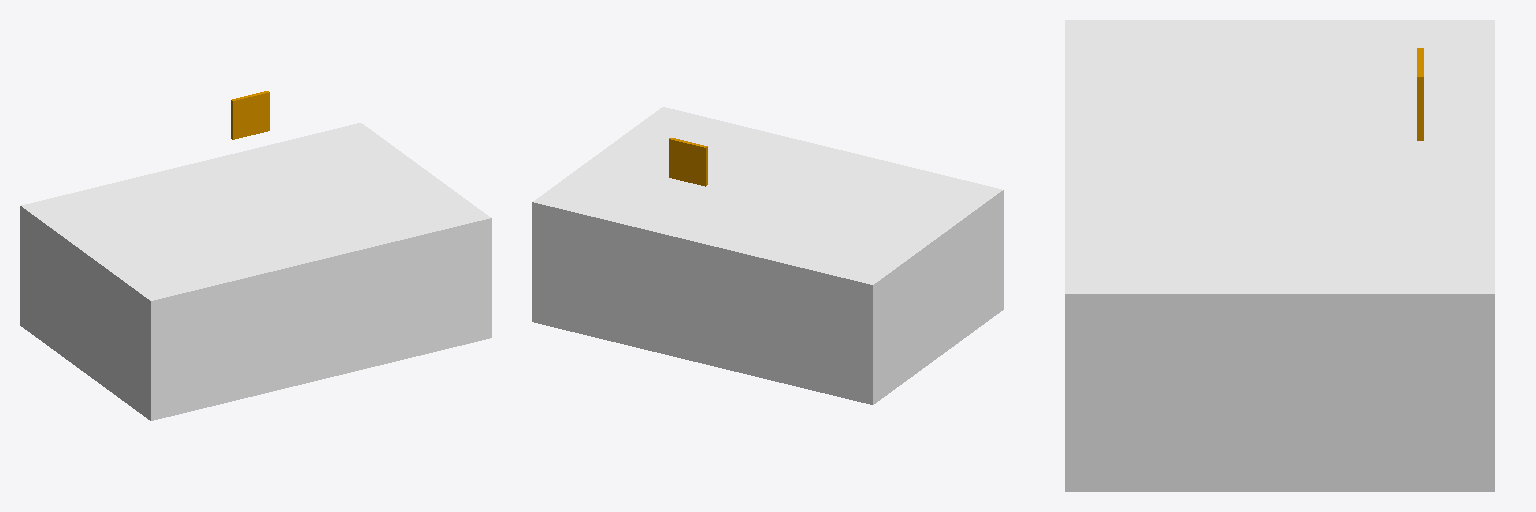
robot.urdf — differential_wheeled_robot:
<?xml version="1.0" ?>
<!-- =================================================================================== -->
<!-- |    This document was autogenerated by xacro from diff_wheeled_robot.xacro       | -->
<!-- |    EDITING THIS FILE BY HAND IS NOT RECOMMENDED                                 | -->
<!-- =================================================================================== -->
<robot name="differential_wheeled_robot" xmlns:xacro="http://www.ros.org/wiki/xacro">
  <!-- Wheels -->
  <!-- in kg-->
  <!-- Defining the colors used in this robot -->
  <material name="Black">
    <color rgba="0.0 0.0 0.0 1.0"/>
  </material>
  <material name="Red">
    <color rgba="0.8 0.0 0.0 1.0"/>
  </material>
  <material name="White">
    <color rgba="1.0 1.0 1.0 1.0"/>
  </material>
  <material name="Blue">
    <color rgba="0.0 0.0 0.8 1.0"/>
  </material>
  <!-- PROPERTY LIST -->
  <!--All units in m-kg-s-radians unit system -->
  <!-- Main body radius and height -->
  <!-- Main Body Cylinder base   -->
  <!-- in kg-->
  <!-- caster wheel radius and height -->
  <!-- caster wheel mass -->
  <!-- in kg-->
  <!-- caster wheel radius and height -->
  <!-- caster wheel mass -->
  <!-- in kg-->
  <!-- Wheels -->
   --&gt; 
  <!-- in kg-->
  <!-- Hokuyo Laser scanner -->
  <!-- Macro for calculating inertia of cylinder -->
  <!-- BASE-FOOTPRINT -->
  <!-- base_footprint is a fictitious link(frame) that is on the ground right below base_link origin -->
  <link name="base_footprint">
    <inertial>
      <mass value="0.0001"/>
      <origin xyz="0 0 0"/>
      <inertia ixx="0.0001" ixy="0.0" ixz="0.0" iyy="0.0001" iyz="0.0" izz="0.0001"/>
    </inertial>
    <visual>
      <origin rpy="0 0 0" xyz="0 0 0"/>
      <geometry>
        <box size="0.001 0.001 0.001"/>
      </geometry>
    </visual>
  </link>
  <gazebo reference="base_footprint">
    <turnGravityOff>false</turnGravityOff>
  </gazebo>
  <joint name="base_footprint_joint" type="fixed">
    <origin rpy="0 0 0" xyz="0 0 0.04"/>
    <parent link="base_footprint"/>
    <child link="base_link"/>
  </joint>
  <!-- BASE-LINK -->
  <!--Actual body/chassis of the robot-->
  <link name="base_link">
    <inertial>
      <mass value="5"/>
      <origin xyz="0 0 0"/>
      <!--The 3x3 rotational inertia matrix. -->
      <inertia ixx="0.0282916666667" ixy="0" ixz="0" iyy="0.0282916666667" iyz="0" izz="0.05625"/>
    </inertial>
    <visual>
      <origin rpy="0 0 0" xyz="0 0 0"/>
       <geometry>
         <box size=".92 .61 .31"/>
      </geometry>
      <material name="White"/>
    </visual>
    <collision>
      <origin rpy="0 0 0 " xyz="0 0 0"/>
      <geometry>
        <box size=".92 .61 .31"/>
      </geometry>
    </collision>
  </link>
  <gazebo reference="base_link">
    <material>Gazebo/White</material>
    <turnGravityOff>false</turnGravityOff>
  </gazebo>
  <!--fb : front, back ; lr: left, right -->
  <link name="front_right_wheel">
    <visual>
      <origin rpy="1.57079632679 0  0 " xyz="0 0 0"/>
      <geometry>
        <cylinder length="0.02" radius="0.04"/>
      </geometry>
      <material name="DarkGray"/>
    </visual>
    <collision>
      <origin rpy="1.57079632679 0 0 " xyz="0 0 0"/>
      <geometry>
        <cylinder length="0.02" radius="0.04"/>
      </geometry>
    </collision>
    <inertial>
      <mass value="2.5"/>
      <origin xyz="0 0 0"/>
      <inertia ixx="0.00108333333333" ixy="0" ixz="0" iyy="0.00108333333333" iyz="0" izz="0.002"/>
    </inertial>
  </link>
  <gazebo reference="front_right_wheel">
    <mu1 value="1.0"/>
    <mu2 value="1.0"/>
    <kp value="10000000.0"/>
    <kd value="1.0"/>
    <fdir1 value="1 0 0"/>
    <material>Gazebo/Grey</material>
    <turnGravityOff>false</turnGravityOff>
  </gazebo>
  <joint name="front_right_wheel_joint" type="continuous">
    <parent link="base_link"/>
    <child link="front_right_wheel"/>
    <origin rpy="0 0 0" xyz="-.1 .15 -.18"/>
    <axis rpy="0  0" xyz="0 1 0"/>
    <limit effort="100" velocity="100"/>
    <joint_properties damping="0.0" friction="0.0"/>
  </joint>
  <!-- Transmission is important to link the joints and the controller -->
  <transmission name="front_right_wheel_joint_trans">
    <type>transmission_interface/SimpleTransmission</type>
    <joint name="front_right_wheel_joint"/>
    <actuator name="front_right_wheel_joint_motor">
      <hardwareInterface>EffortJointInterface</hardwareInterface>
      <mechanicalReduction>1</mechanicalReduction>
    </actuator>
  </transmission>
  <!--fb : front, back ; lr: left, right -->
  <link name="front_left_wheel">
    <visual>
      <origin rpy="1.57079632679 0  0 " xyz="0 0 0"/>
      <geometry>
        <cylinder length="0.02" radius="0.04"/>
      </geometry>
      <material name="DarkGray"/>
    </visual>
    <collision>
      <origin rpy="1.57079632679 0 0 " xyz="0 0 0"/>
      <geometry>
        <cylinder length="0.02" radius="0.04"/>
      </geometry>
    </collision>
    <inertial>
      <mass value="2.5"/>
      <origin xyz="0 0 0"/>
      <inertia ixx="0.00108333333333" ixy="0" ixz="0" iyy="0.00108333333333" iyz="0" izz="0.002"/>
    </inertial>
  </link>
  <gazebo reference="front_left_wheel">
    <mu1 value="1.0"/>
    <mu2 value="1.0"/>
    <kp value="10000000.0"/>
    <kd value="1.0"/>
    <fdir1 value="1 0 0"/>
    <material>Gazebo/Grey</material>
    <turnGravityOff>false</turnGravityOff>
  </gazebo>
  <joint name="front_left_wheel_joint" type="continuous">
    <parent link="base_link"/>
    <child link="front_left_wheel"/>
    <origin rpy="0 0 0" xyz="-.1 -.15 -.18"/>
    <axis rpy="0  0" xyz="0 1 0"/>
    <limit effort="100" velocity="100"/>
    <joint_properties damping="0.0" friction="0.0"/>
  </joint>
  <!-- Transmission is important to link the joints and the controller -->
  <transmission name="front_left_wheel_joint_trans">
    <type>transmission_interface/SimpleTransmission</type>
    <joint name="front_left_wheel_joint"/>
    <actuator name="front_left_wheel_joint_motor">
      <hardwareInterface>EffortJointInterface</hardwareInterface>
      <mechanicalReduction>1</mechanicalReduction>
    </actuator>
  </transmission>
  <!--Caster front  -->
  <link name="middle_link_left">
    <visual>
      <geometry>
         <box size=".1 .1 .01"/>
      </geometry>
    </visual>
    <collision>
      <geometry>
        <box size=".02 .01 .02"/>
      </geometry>
    </collision>
    <inertial>
      <mass value="5"/>
      <inertia ixx="1.0" ixy="0.0" ixz="0.0" iyy="1.0" iyz="0.0" izz="1.0"/>
    </inertial>
  </link>

      <joint name="top_joint_left" type="revolute">
        <axis xyz="0 0 1"/>
        <limit effort="1000.0" lower="0.0" upper="0.548" velocity="0.5"/>
        <origin rpy="0 0 0" xyz=".1 .15 -.18"/>
        <parent link="base_link"/>
        <child link="middle_link_left"/>
      </joint>

<link name="caster_link_left">
    <visual>
      <origin rpy="1.57079632679 0 0" xyz="0 0.02 0"/>
      <geometry>
        <sphere radius="0.025"/> 
      </geometry>
      <material name="Black"/>
    </visual>
    <collision>
      <geometry>
        <sphere radius="0.08"/>
      </geometry>
      <origin rpy="1.57079632679 0 0" xyz="0 0.02 0"/>
    </collision>
    <inertial>
      <mass value="0.5"/>
      <origin xyz="0 0 0"/>
      <inertia ixx="0.001" ixy="0.0" ixz="0.0" iyy="0.001" iyz="0.0" izz="0.001"/>
    </inertial>
  </link>
  <joint name="wheel_joint_left" type="fixed">
    <parent link="middle_link_left"/>
    <child link="caster_link_left"/>
    <origin xyz="0 0 0" rpy="-1.57079632679 0 0"/>
  </joint>
  <gazebo reference="caster_link_left">
    <turnGravityOff>false</turnGravityOff>
   </gazebo>


  <!--Caster back  -->
  <link name="middle_link_right">
    <visual>
      <geometry>
         <box size=".1 .1 .01"/>
      </geometry>
    </visual>
    <collision>
      <geometry>
        <box size=".02 .01 .02"/>
      </geometry>
    </collision>
    <inertial>
      <mass value="10"/>
      <inertia ixx="1.0" ixy="0.0" ixz="0.0" iyy="1.0" iyz="0.0" izz="1.0"/>
    </inertial>
  </link>

      <joint name="top_joint_right" type="revolute">
        <axis xyz="0 0 1"/>
        <limit effort="1000.0" lower="0.0" upper="0.548" velocity="0.5"/>
        <origin rpy="0 0 0" xyz=".1 -.15 -.18"/>
        <parent link="base_link"/>
        <child link="middle_link_right"/>
      </joint>
  <gazebo reference="middle_link_right">
    <turnGravityOff>false</turnGravityOff>
   </gazebo>

<link name="caster_link_right">
    <visual>
      <origin rpy="1.57079632679 0 0" xyz="0 0.02 0"/>
      <geometry>
        <sphere radius="0.025"/> 
      </geometry>
      <material name="Black"/>
    </visual>
    <collision>
      <geometry>
        <sphere radius="0.08"/>
      </geometry>
      <origin rpy="1.57079632679 0 0" xyz="0 0.02 0"/>
    </collision>
    <inertial>
      <mass value="10"/>
      <origin xyz="0 0 0"/>
      <inertia ixx="0.001" ixy="0.0" ixz="0.0" iyy="0.001" iyz="0.0" izz="0.001"/>
    </inertial>
  </link>
  <joint name="wheel_joint_right" type="fixed">
    <parent link="middle_link_right"/>
    <child link="caster_link_right"/>
    <origin xyz="0 0 0" rpy="-1.57079632679 0 0"/>
  </joint>

   <gazebo reference="caster_link_right">
    <turnGravityOff>false</turnGravityOff>
   </gazebo>

  <link name="weight">
    <visual>
      <geometry>
         <box size=".1 .1 .01"/>
      </geometry>
    </visual>
    <collision>
      <geometry>
        <box size=".02 .01 .02"/>
      </geometry>
    </collision>
    <inertial>
      <mass value="50"/>
      <inertia ixx="1.0" ixy="0.0" ixz="0.0" iyy="1.0" iyz="0.0" izz="1.0"/>
    </inertial>
  </link>

    <joint name="wight_joint" type="fixed">
    <parent link="base_link"/>
    <child link="weight"/>
    <origin xyz=".10 .20 .30" rpy="-1.57079632679 0 0"/>
  </joint>

  
  <!-- SENSORS -->
  <!-- hokuyo -->
  <link name="hokuyo_link">
    <visual>
      <origin rpy="0 0 0" xyz="0 0 0"/>
      <geometry>
        <box size="0.05 0.05 0.05"/>
      </geometry>
      <material name="Blue"/>
    </visual>
  </link>
  <joint name="hokuyo_joint" type="fixed">
    <origin rpy="0 0 0" xyz="0.125 0 0.0325"/>
    <parent link="base_link"/>
    <child link="hokuyo_link"/>
  </joint>
  <gazebo reference="hokuyo_link">
    <material>Gazebo/Blue</material>
    <turnGravityOff>false</turnGravityOff>
    <sensor name="head_hokuyo_sensor" type="ray">
      <pose>0.025 0 0 0 0 0</pose>
      <visualize>false</visualize>
      <update_rate>40</update_rate>
      <ray>
        <scan>
          <horizontal>
            <samples>720</samples>
            <resolution>1</resolution>
            <min_angle>-1.570796</min_angle>
            <max_angle>1.570796</max_angle>
          </horizontal>
        </scan>
        <range>
          <min>0.10</min>
          <max>10.0</max>
          <resolution>0.001</resolution>
        </range>
      </ray>
      <plugin filename="libgazebo_ros_laser.so" name="gazebo_ros_head_hokuyo_controller">
        <topicName>/scan</topicName>
        <frameName>hokuyo_link</frameName>
      </plugin>
    </sensor>
  </gazebo>
  <!-- Differential drive controller  -->
  <gazebo>
    <plugin filename="libgazebo_ros_diff_drive.so" name="differential_drive_controller_front">
      <rosDebugLevel>Debug</rosDebugLevel>
      <publishWheelTF>True</publishWheelTF>
      <publishTf>1</publishTf>
      <publishWheelJointState>true</publishWheelJointState>
      <alwaysOn>true</alwaysOn>
      <updateRate>100.0</updateRate>
      <leftJoint>front_left_wheel_joint</leftJoint>
      <rightJoint>front_right_wheel_joint</rightJoint>
      <wheelSeparation>0.3</wheelSeparation>
      <wheelDiameter>0.08</wheelDiameter>
      <broadcastTF>1</broadcastTF>
      <wheelTorque>30</wheelTorque>
      <wheelAcceleration>1.8</wheelAcceleration>
      <commandTopic>cmd_vel</commandTopic>
      <odometryFrame>odom</odometryFrame>
      <odometryTopic>odom</odometryTopic>
      <robotBaseFrame>base_link</robotBaseFrame>
    </plugin>
  </gazebo>
  <!--
	  <gazebo>
	    <plugin name="kobuki_controller" filename="libgazebo_ros_kobuki.so">
	      <publish_tf>1</publish_tf>
	      <left_wheel_joint_name>front_left_wheel_joint</left_wheel_joint_name>
	      <right_wheel_joint_name>front_right_wheel_joint</right_wheel_joint_name>
	      <wheel_separation>.30</wheel_separation>
	      <wheel_diameter>0.08</wheel_diameter>
	      <torque>30.0</torque>
	      <velocity_command_timeout>0.6</velocity_command_timeout>


	    </plugin>
	  </gazebo>

-->
  <!--
<gazebo>
    <plugin name="gazebo_ros_control" filename="libgazebo_ros_control.so" />
    <plugin filename="libgazebo_ros_joint_state_publisher.so" name="joint_state_publisher">
      <jointName>front_right_wheel_joint, front_left_wheel_joint</jointName>
      <updateRate>10.0</updateRate>
      <alwaysOn>true</alwaysOn>
    </plugin>
</gazebo>
-->
</robot>

--- What the picture shows (computed from the rendered views, not written in the file) ---
Views: 3 orthographic renders of the robot side by side, from view 1: azimuth 30°, elevation 25°; view 2: azimuth 150°, elevation 25°; view 3: azimuth 270°, elevation 25°.
Robot: differential_wheeled_robot — 10 links, 9 joints (2 revolute, 2 continuous, 5 fixed); root link base_footprint; default pose: all joints at 0.
Links seen in each view (by area): view 1: base_link, weight; view 2: base_link, weight; view 3: base_link, weight.
Boxes of the visible links, x1,y1,x2,y2 form: base_link: [20, 123, 491, 420]; weight: [231, 91, 269, 139]; base_link: [532, 107, 1003, 404]; weight: [669, 138, 707, 186]; base_link: [1065, 20, 1494, 491]; weight: [1417, 48, 1423, 140].
Bounding box of the posed robot: 0.92 × 0.61 × 0.575 m (x, y, z).
Geometry: primitives only (box / cylinder / sphere), no mesh files.
